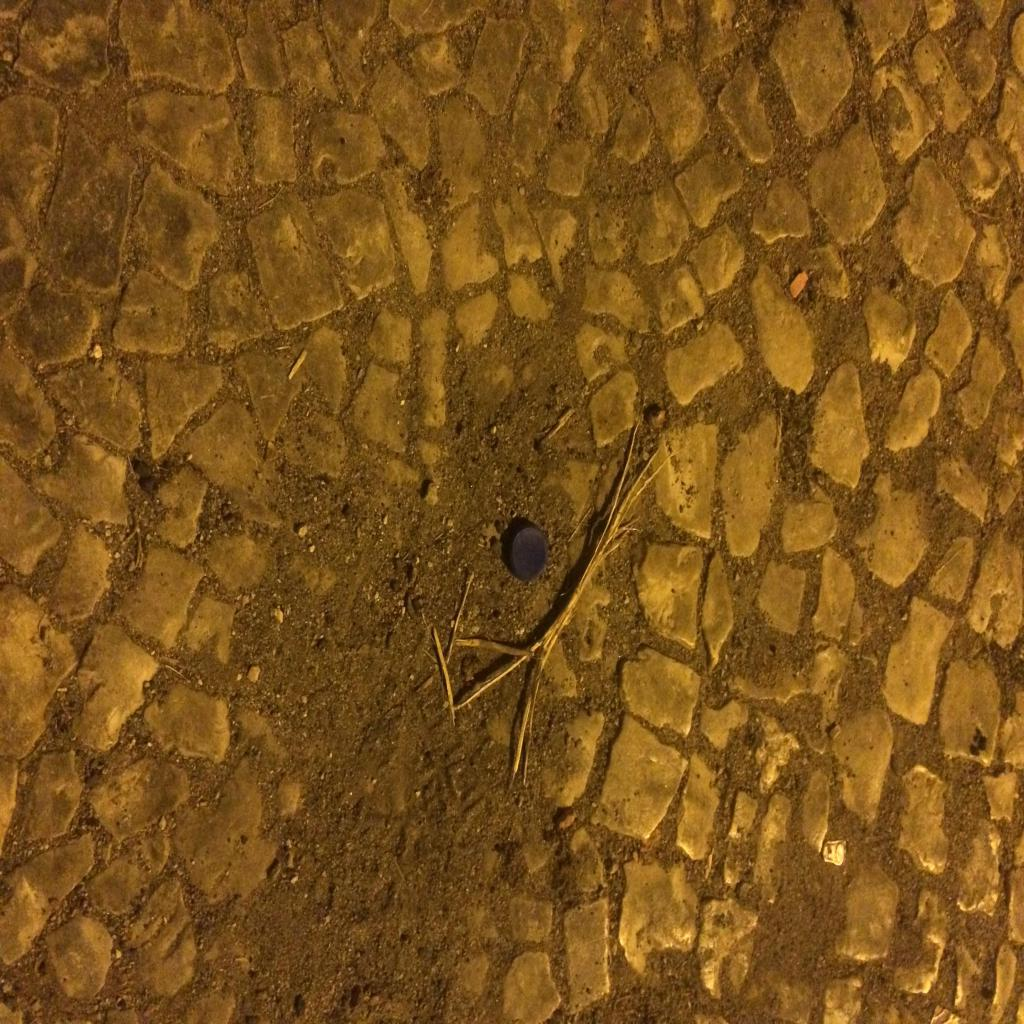Plastic bottle cap: (510, 525, 548, 580)
